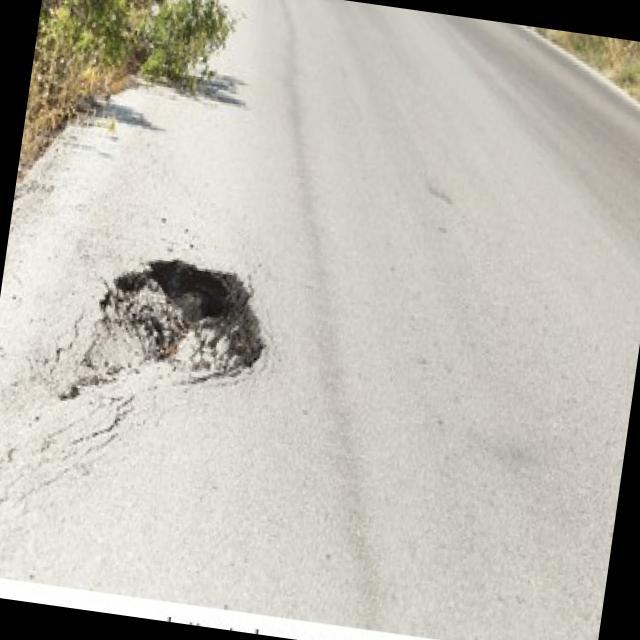Pothole: (76, 237, 276, 410)
